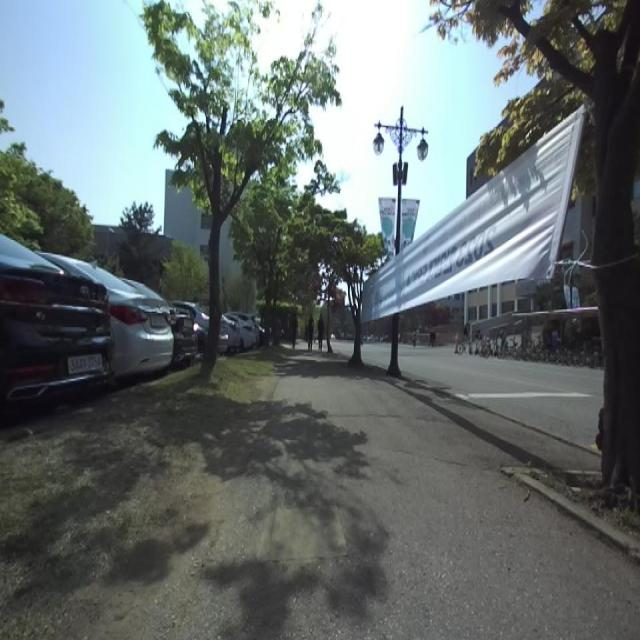sidewalk: (175, 349, 640, 640)
